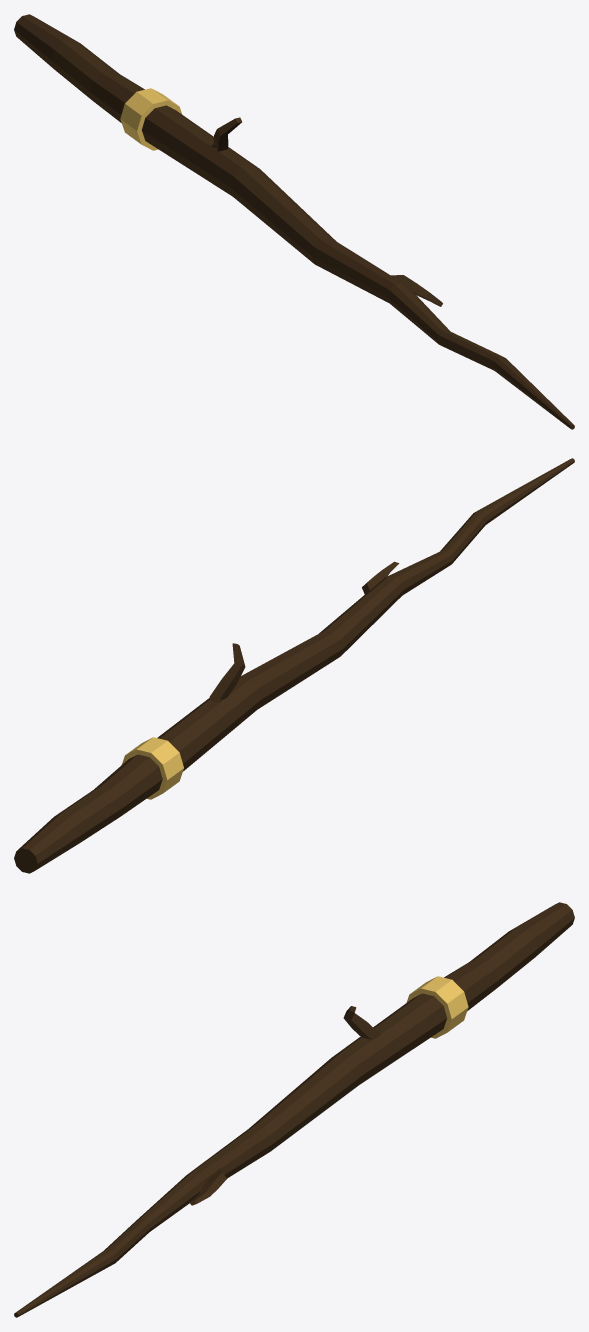
Rendered from Wand.fbx.
3 renders of one model, top to bottom at view 1: azimuth 30°, elevation 25°; view 2: azimuth 150°, elevation 25°; view 3: azimuth 330°, elevation 25°, orthographic.
Parts seen in each view (by area): view 1: Wand; view 2: Wand; view 3: Wand.
Part boxes in pixels (box(x1,y1,x2,y2)): Wand: box(14, 14, 574, 429); Wand: box(14, 458, 574, 873); Wand: box(14, 902, 574, 1317).
Bounding box in the file's own units: 3.47 × 5.67 × 65.01.
